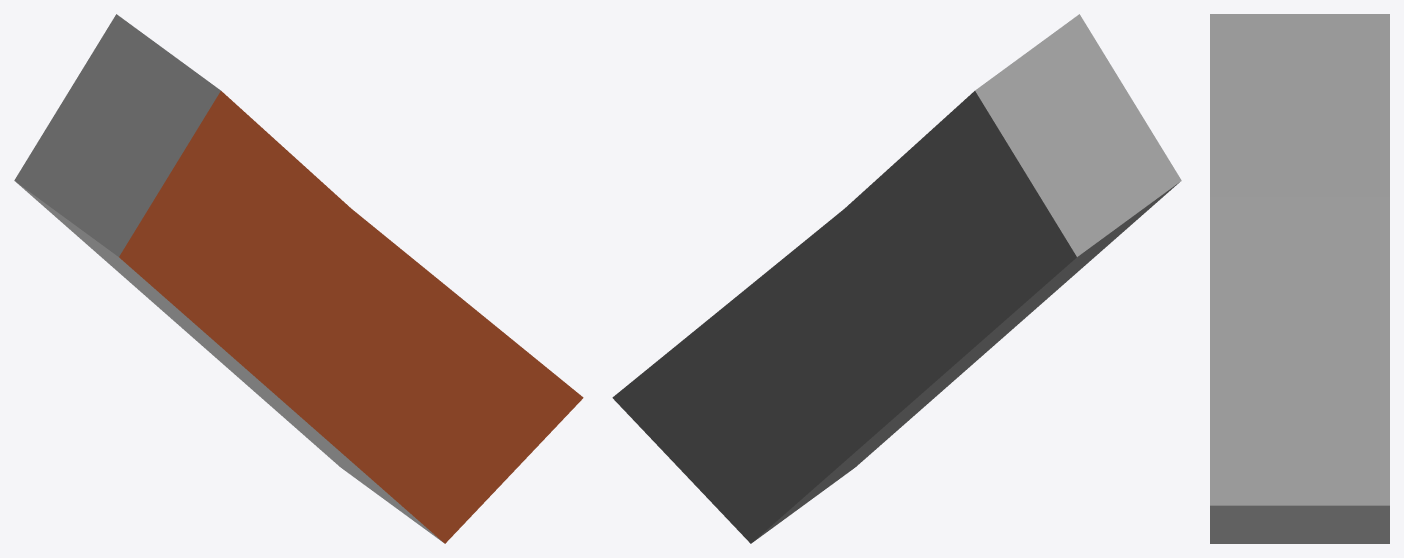
Rendered from construction_1044_assumed_A_Casa_h6m.obj.
3 views of the same model, side by side, from view 1: azimuth 30°, elevation 25°; view 2: azimuth 150°, elevation 25°; view 3: azimuth 270°, elevation 25° (orthographic). The views are drawn at different scales.
Parts seen in each view (by area): view 1: construction_1044_assumed_A_Casa; view 2: construction_1044_assumed_A_Casa; view 3: construction_1044_assumed_A_Casa.
Part boxes in pixels (bbox=[...]): construction_1044_assumed_A_Casa: bbox=[14, 14, 583, 543]; construction_1044_assumed_A_Casa: bbox=[612, 14, 1181, 543]; construction_1044_assumed_A_Casa: bbox=[1210, 14, 1389, 543].
Bounding box in the file's own units: 15.39 × 16.07 × 6.
